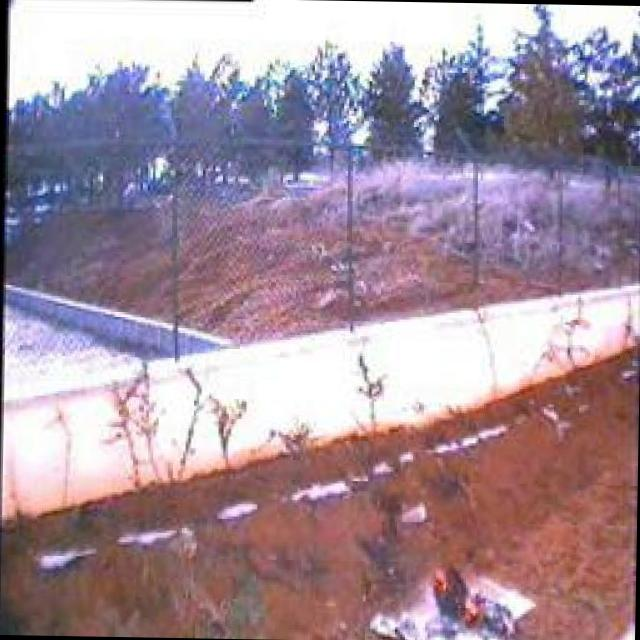Fire: (425, 556, 481, 635)
